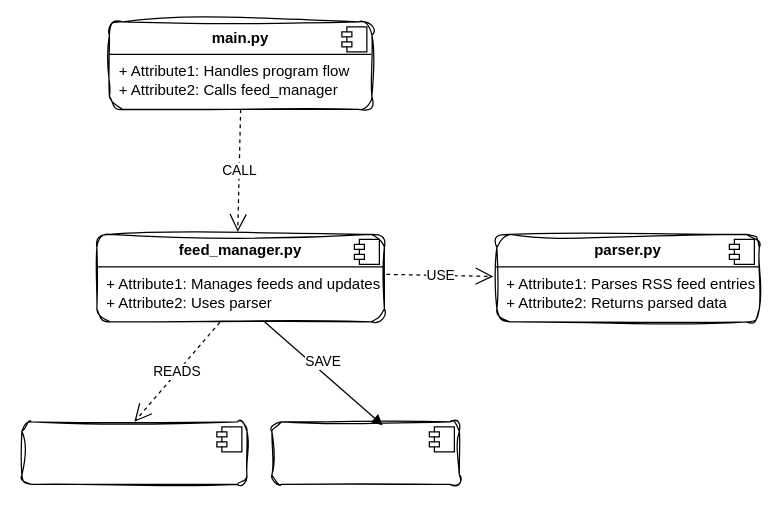
The diagram is 781 pixels wide and 519 high, and some of its shapes have lost their labels. Each missing label, with the box of its shape:
feeds.json + Attribute1: Stores RSS feed URLs: (21, 421, 247, 484)
updates.csv + Attribute1: Logs updates: (271, 421, 459, 484)
